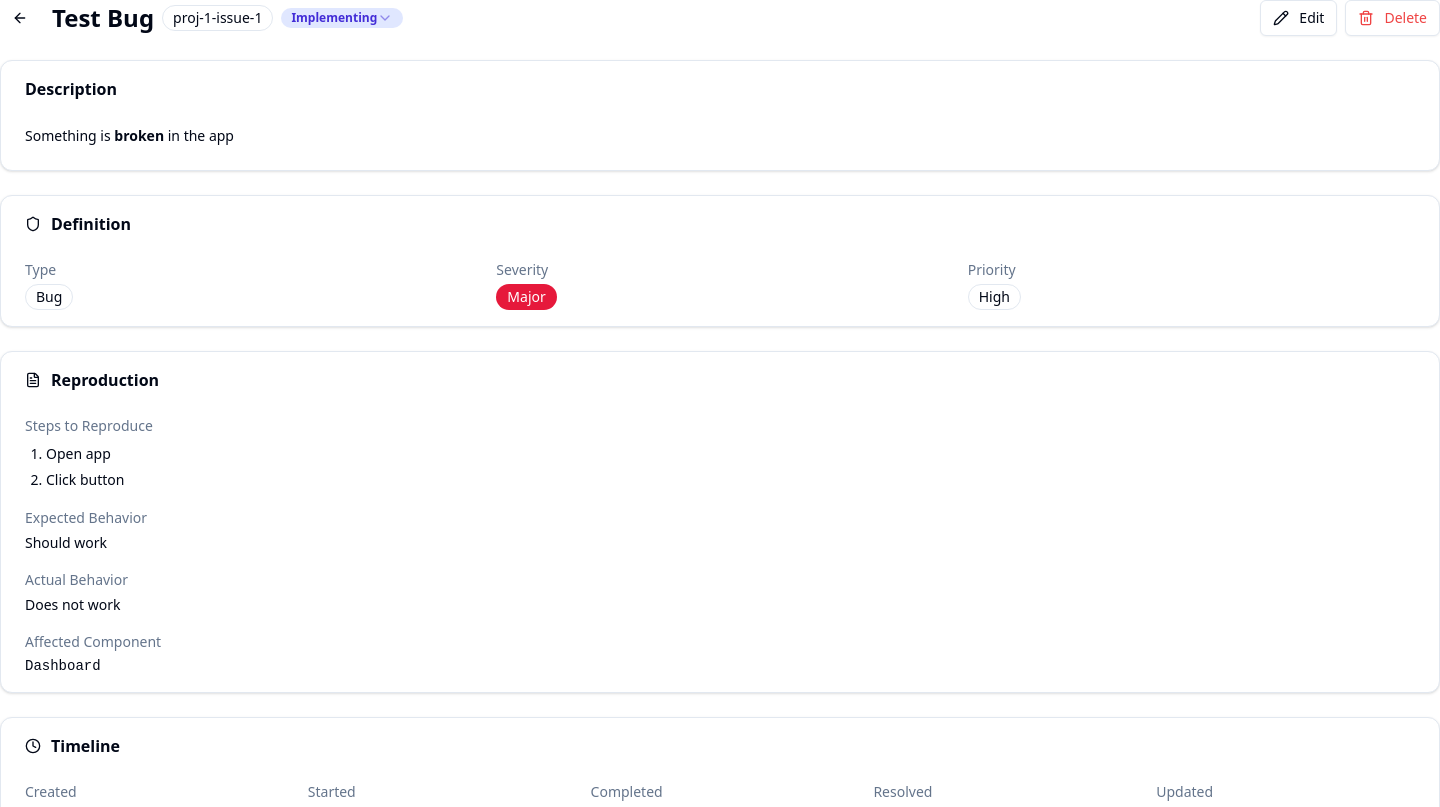
Test case: IssueDetailPage › closes delete dialog on Escape key
The width and height of the screenshot is (1440, 807).
expect the heading "Test Bug" is shown: met, box [52,2,154,34]
Click the button "Delete": (1393, 18) [1345,0,1439,36]
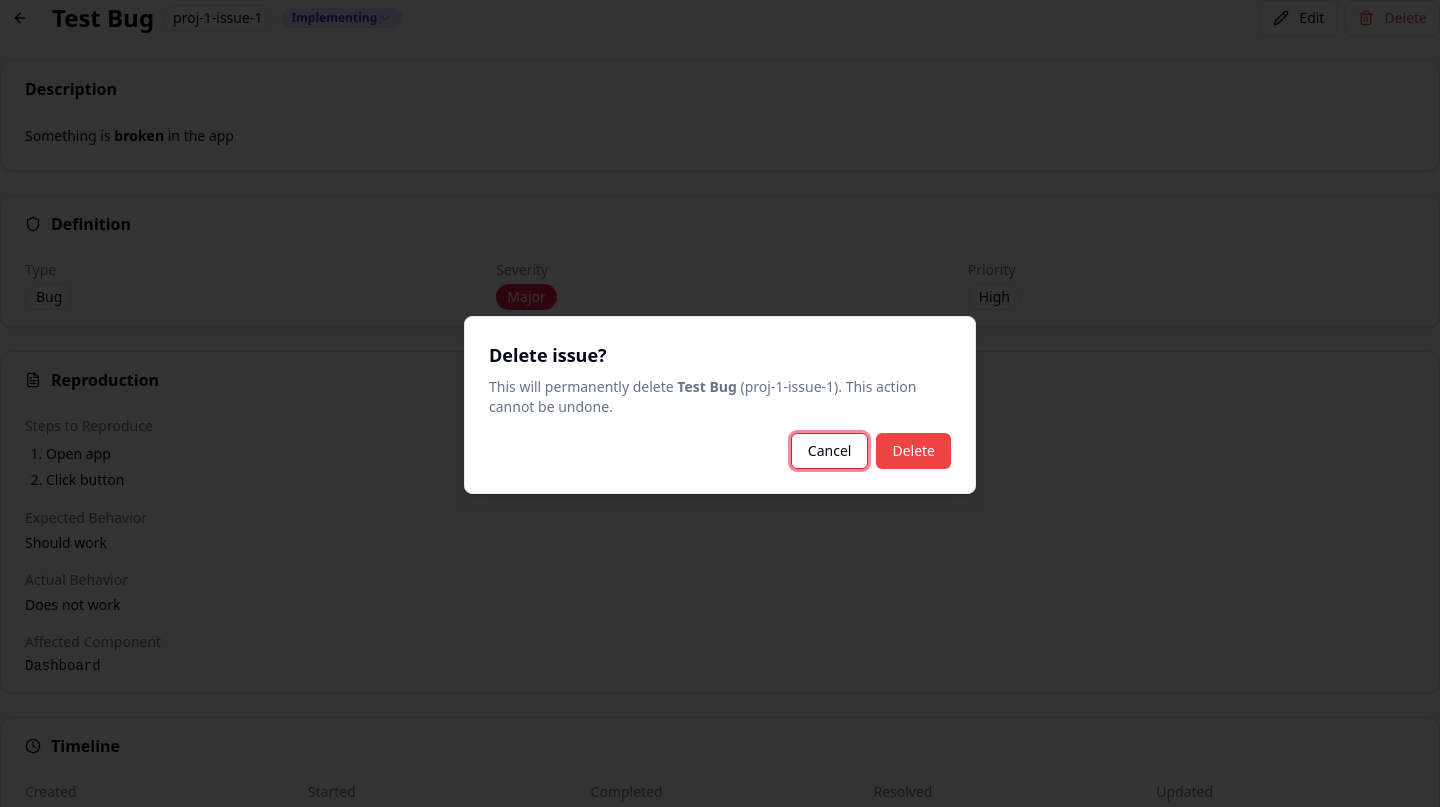
expect the heading "Delete issue?" is shown: met, box [489,343,607,367]
Press Escape
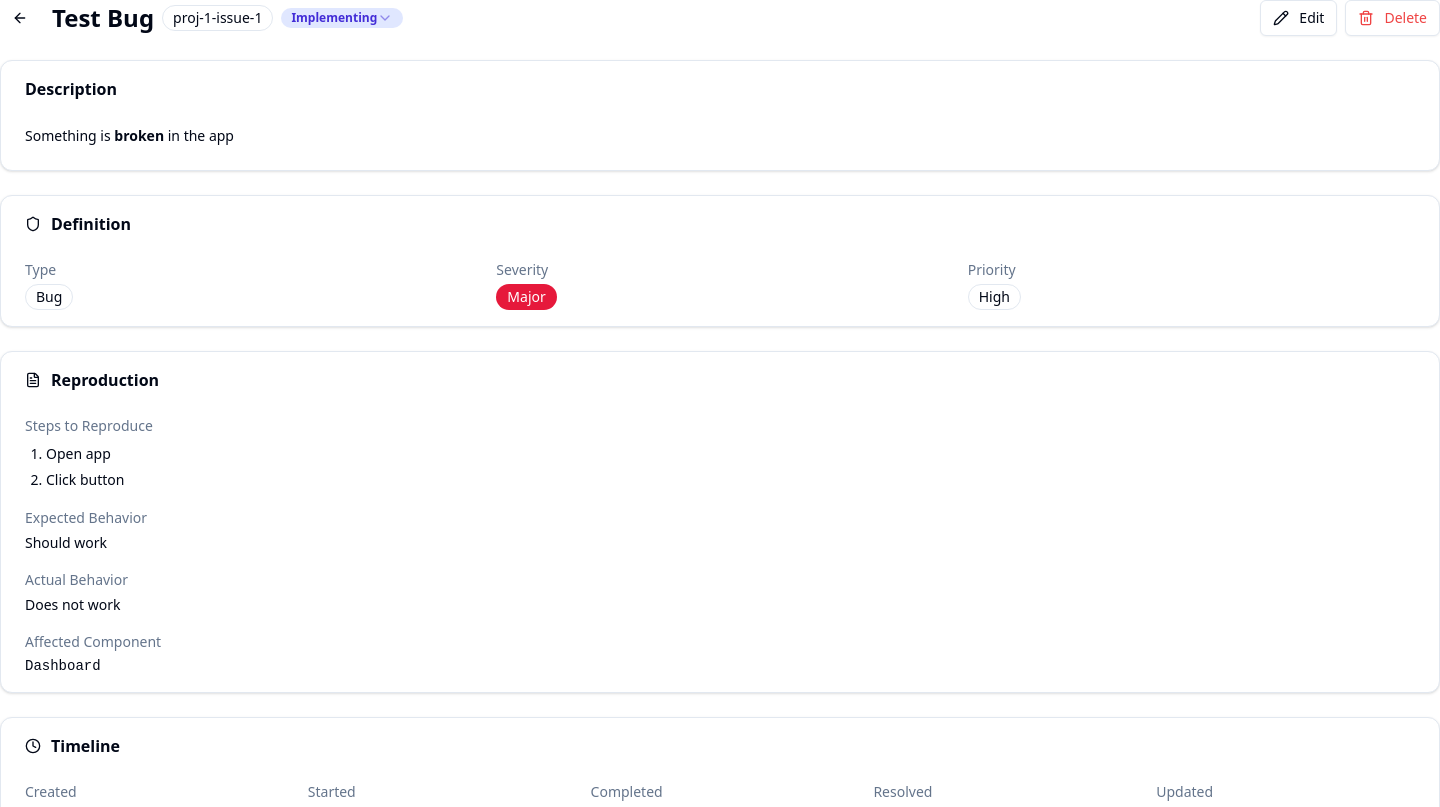
expect the heading "Delete issue?" is gone: met
